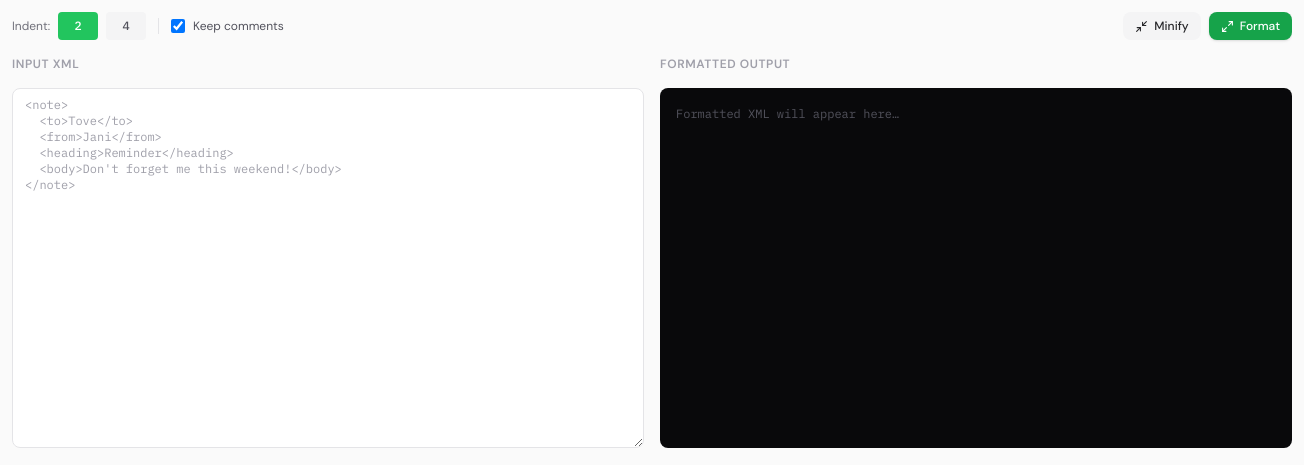
Test: XmlFormatterTool Component › shows error on invalid XML
Replace the text in the text box with placeholder "<note>" with "<root><child>unclosed</root>" at {"x": 328, "y": 268}, box [12,88,644,448]
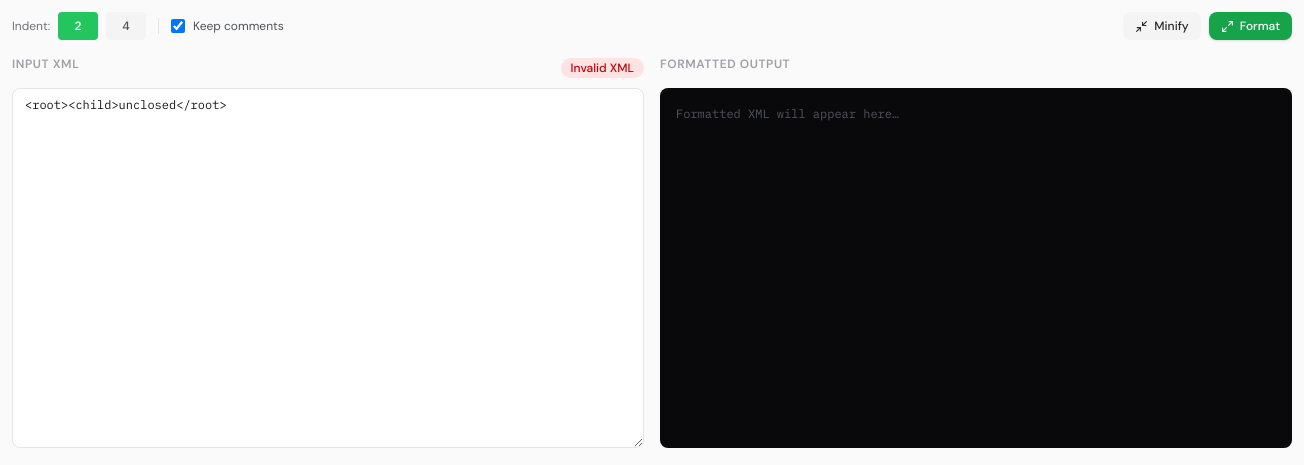
Now the text "Invalid XML" is shown, box [560,58,644,78]
Click the button "Format" at {"x": 1250, "y": 26}, box [1209,12,1292,40]
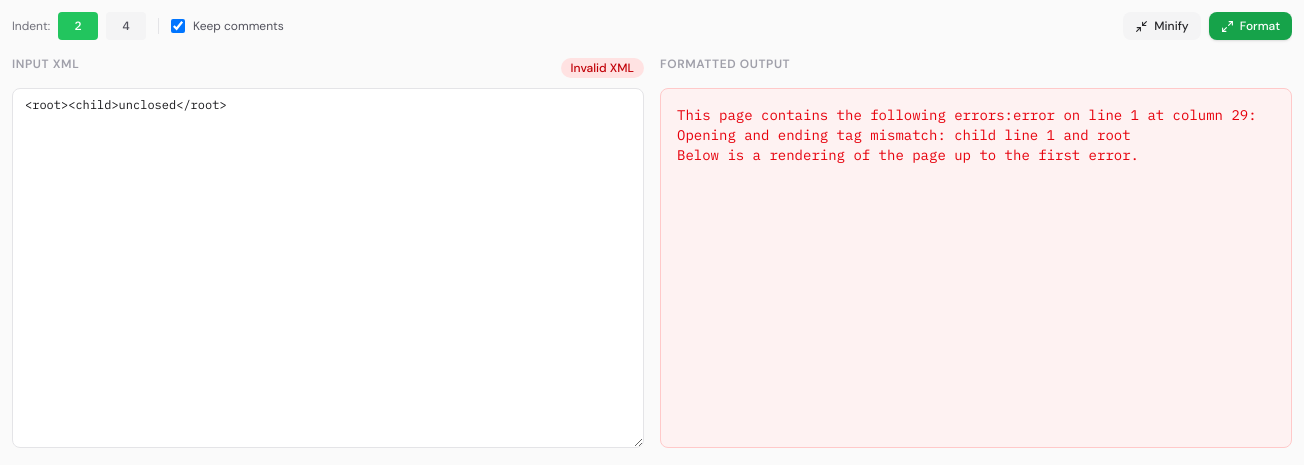
Now the text "Formatted XML will appear here…" is gone
